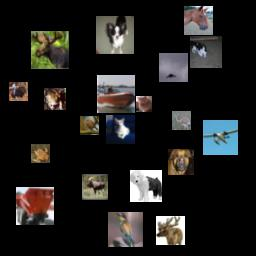airplane: (203, 120, 238, 155), (159, 53, 188, 82)
bird: (108, 212, 143, 247), (9, 82, 28, 101), (80, 116, 99, 135), (172, 111, 191, 130)
cat: (190, 36, 222, 68), (106, 115, 135, 144), (136, 96, 152, 112)
deer: (31, 31, 69, 69), (156, 216, 185, 245), (82, 174, 108, 200)
dog: (96, 16, 134, 54), (130, 170, 162, 202), (168, 149, 194, 175)
frog: (44, 88, 66, 110), (31, 144, 50, 163)
ship: (97, 75, 135, 113)
truck: (16, 187, 54, 225)
